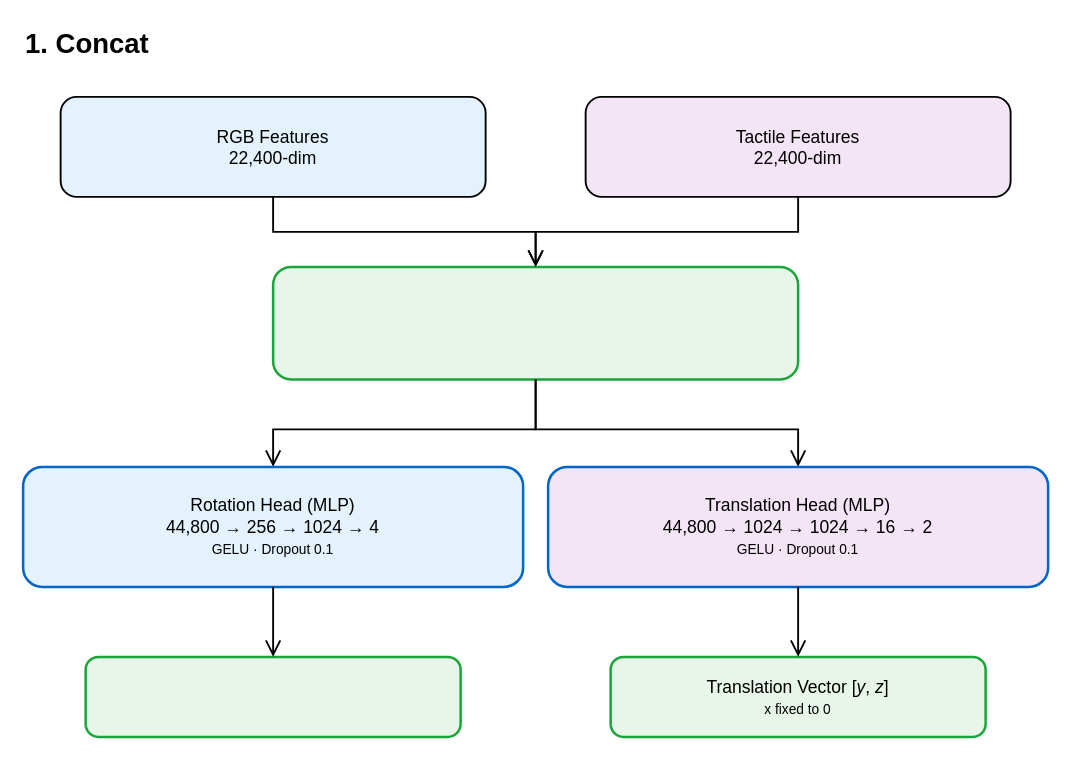
This 1070x759 diagram has some shape labels left out. The shapes that lost their labels are listed below. From the top down, each one's centre as x and y in pixels, then its label:
At [535,322]: "Concatenate Streams [RGB | Tactile] 44,800-dim".
At [272,696]: "Quaternion q L2-normalised, ℝ⁴".
